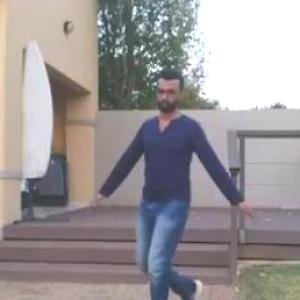land: (100, 80, 252, 299)
